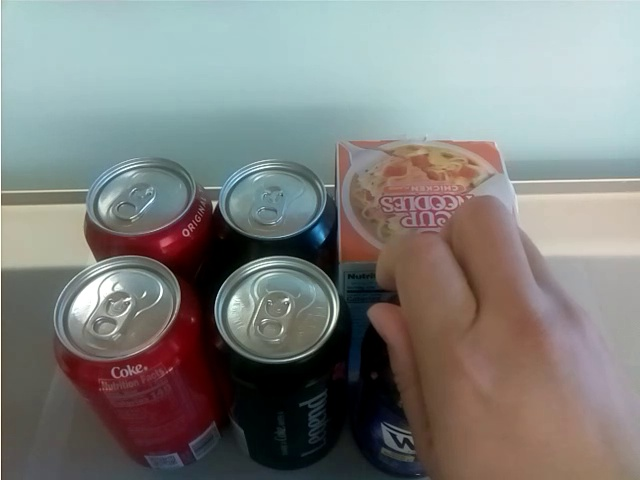cocacola: (50, 255, 218, 479), (214, 253, 351, 474), (215, 154, 336, 259), (81, 156, 212, 252)
hand: (369, 190, 636, 480)
juice: (367, 338, 420, 477)
noodles: (340, 140, 528, 256)
